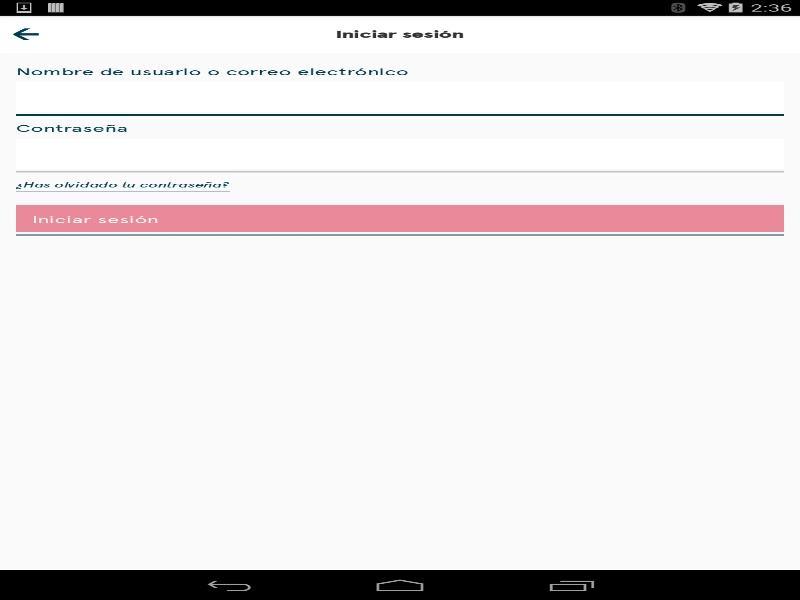Button: (0, 15, 78, 53)
Input: (16, 82, 784, 112), (16, 138, 784, 168)
